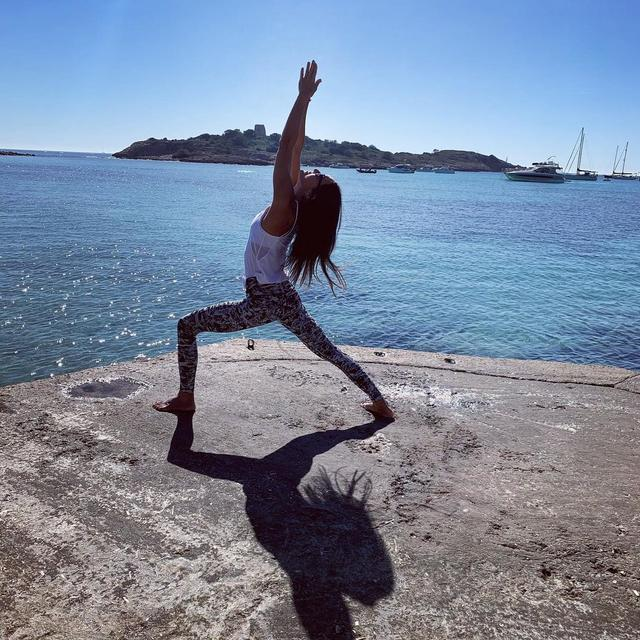Warrior_I: (153, 53, 401, 432)
